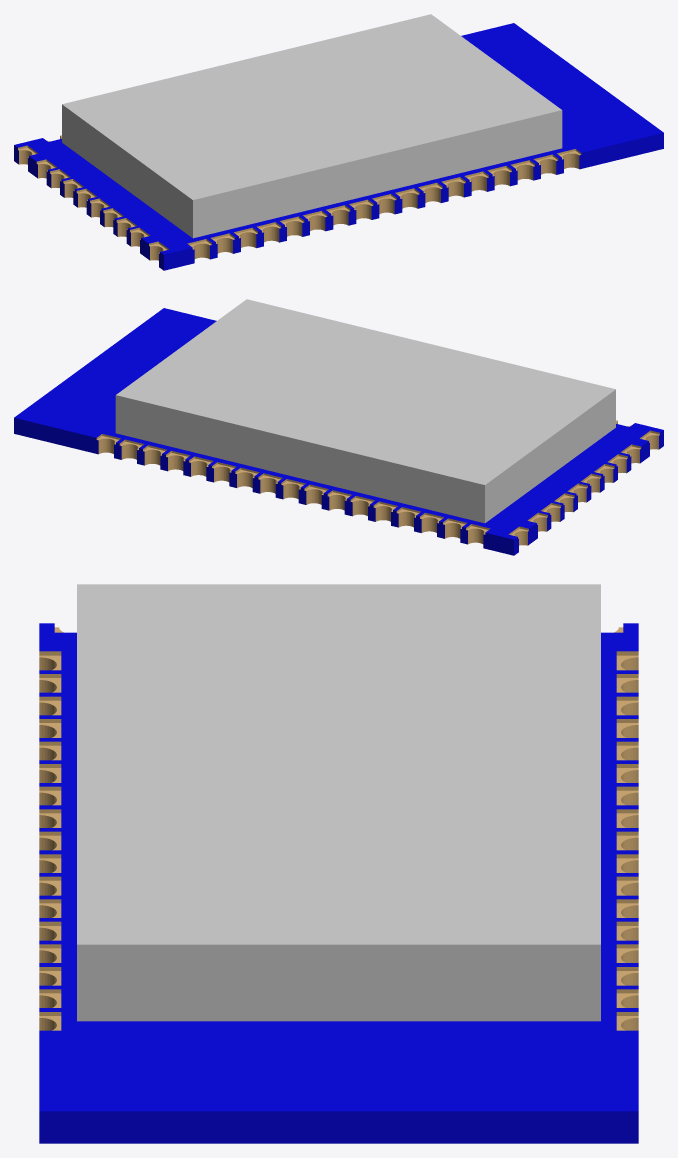
The picture shows the model from 3 angles, top to bottom: view 1: azimuth 30°, elevation 25°; view 2: azimuth 150°, elevation 25°; view 3: azimuth 270°, elevation 25°; orthographic projection. The views are drawn at different scales.
Visible parts, largest first — view 1: RN-52; view 2: RN-52; view 3: RN-52.
Boxes of the visible parts, x1=… form: RN-52: x1=14, y1=14, x2=663, y2=270; RN-52: x1=14, y1=299, x2=663, y2=555; RN-52: x1=39, y1=584, x2=638, y2=1143.
Size of the model in its own units: 26 by 13.5 by 2.7.
